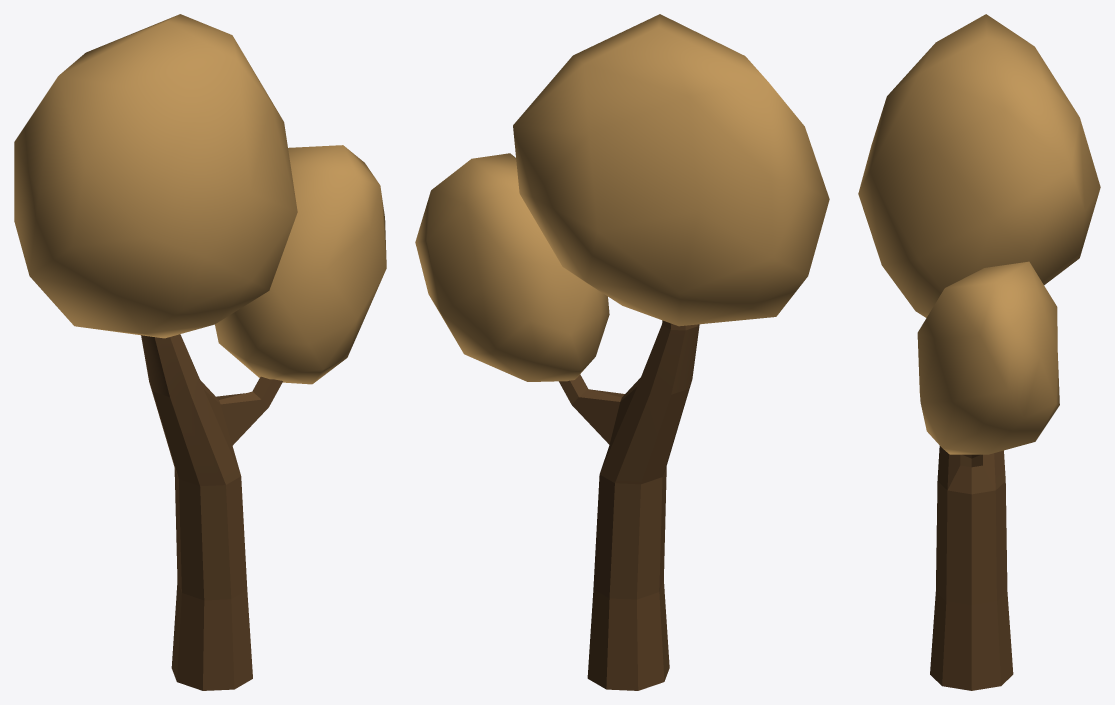
The model's file is tree_04.fbx.
3 views of the same model, side by side, from view 1: azimuth 30°, elevation 25°; view 2: azimuth 150°, elevation 25°; view 3: azimuth 270°, elevation 25° (orthographic). The views are drawn at different scales.
Parts seen in each view (by area): view 1: pPlatonic3, tree_04, pPlatonic7; view 2: pPlatonic3, pPlatonic7, tree_04; view 3: pPlatonic3, pPlatonic7, tree_04.
Boxes of the visible parts, box(x1,y1,x2,y2) form: pPlatonic3: box(14, 14, 297, 338); tree_04: box(141, 334, 282, 690); pPlatonic7: box(215, 145, 386, 384); pPlatonic3: box(513, 14, 829, 326); pPlatonic7: box(415, 153, 609, 381); tree_04: box(559, 320, 699, 690); pPlatonic3: box(858, 14, 1100, 317); pPlatonic7: box(917, 261, 1059, 454); tree_04: box(930, 446, 1013, 690).
Bounding box in the file's own units: 3.48 × 5.85 × 2.08.
